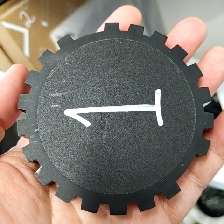gear: (15, 21, 215, 217)
missing: (160, 136, 211, 202), (56, 21, 121, 51)
